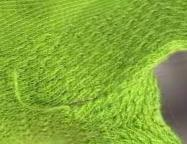snag: (9, 65, 72, 117)
